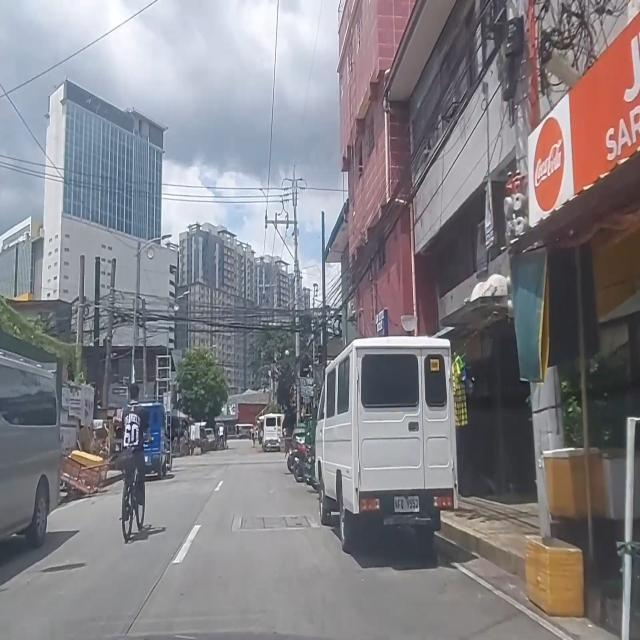bike: (114, 384, 149, 535), (218, 423, 224, 450)
car: (0, 344, 60, 558)
jeepney: (236, 424, 253, 439)
truck: (314, 338, 460, 558), (136, 403, 168, 478), (260, 413, 284, 451)
